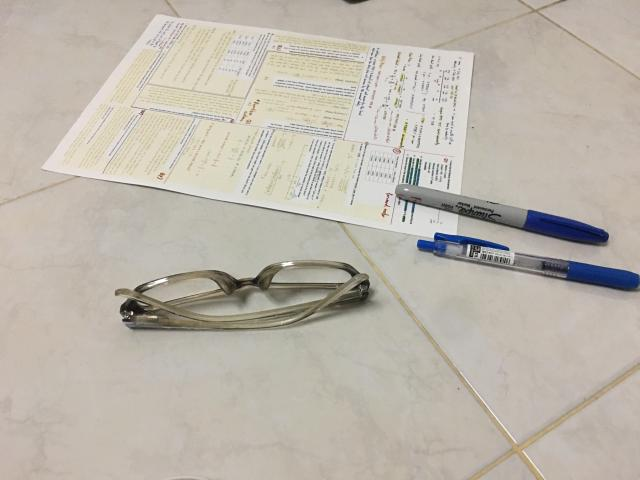Glasses: (115, 260, 369, 329)
Pen: (395, 184, 609, 244), (418, 232, 640, 289)
paper: (42, 15, 474, 242)
